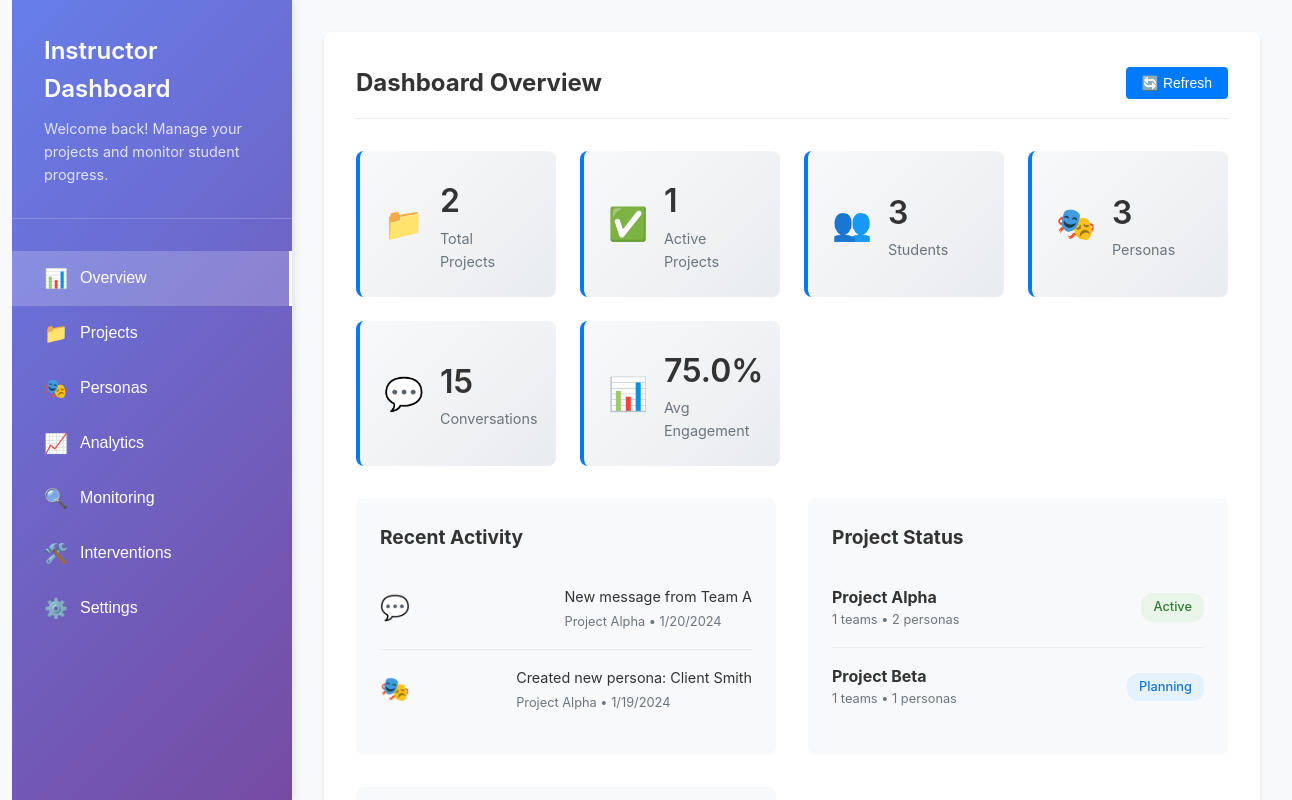
Test: InstructorDashboard › Navigation › should switch to settings view when settings is clicked
The image size is (1292, 800).
Expected: the heading "Instructor Dashboard" is shown, [44,36,171,103]
Click the button "⚙️ Settings".
click(109, 608)  # box [12,581,292,636]
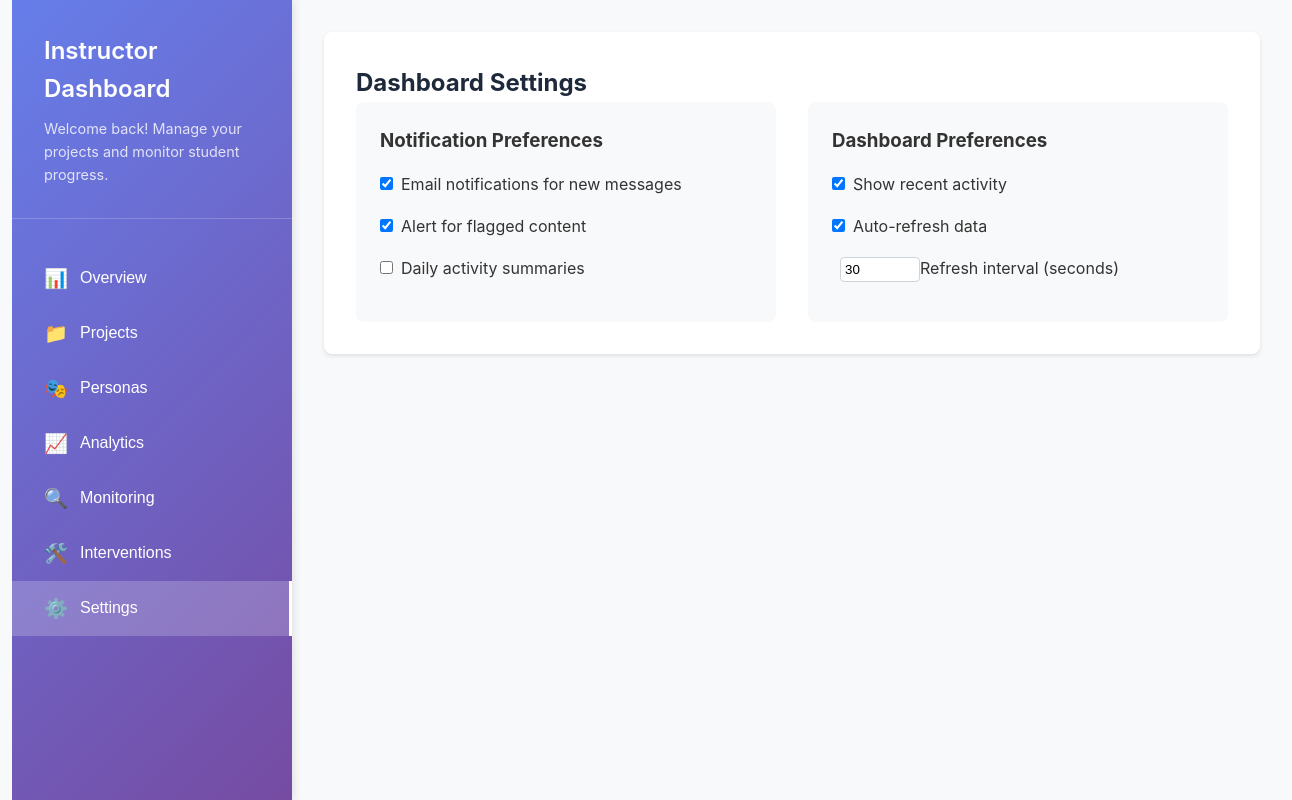
Expected: the heading "Dashboard Settings" is shown, [356,68,587,97]
Expected: the heading "Notification Preferences" is shown, [380,129,603,152]
Expected: the heading "Dashboard Preferences" is shown, [832,129,1047,152]
